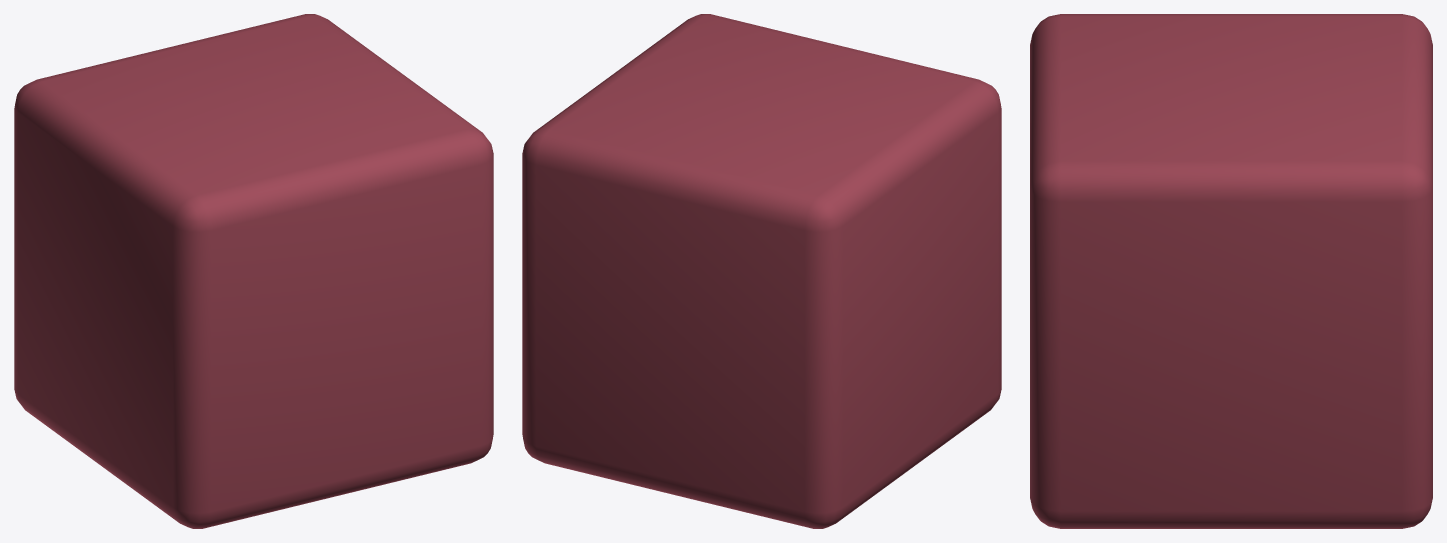
File: QuiltedCube.fbx
The picture shows the model from 3 angles, left to right: view 1: azimuth 30°, elevation 25°; view 2: azimuth 150°, elevation 25°; view 3: azimuth 270°, elevation 25°; orthographic projection. The views are drawn at different scales.
Parts seen in each view (by area): view 1: QuiltedCube; view 2: QuiltedCube; view 3: QuiltedCube.
Boxes of the visible parts, x1,y1,x2,y2 form: QuiltedCube: [14, 14, 493, 528]; QuiltedCube: [522, 14, 1001, 528]; QuiltedCube: [1030, 14, 1432, 528].
Bounding box in the file's own units: 1 × 1 × 1.
Materials: 1 (1 with a texture image).
